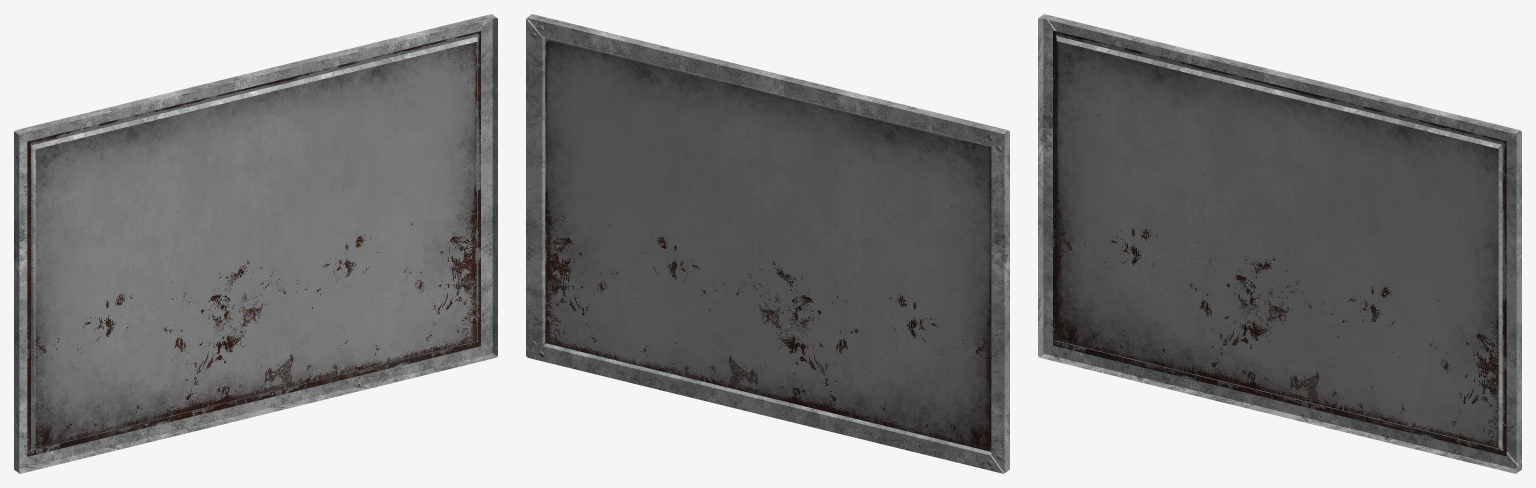
Rendered from Toilet_mirror_dirt.fbx.
3 renders of one model, left to right at view 1: azimuth 30°, elevation 25°; view 2: azimuth 150°, elevation 25°; view 3: azimuth 330°, elevation 25°, orthographic.
Parts seen in each view (by area): view 1: mirror_toilet; view 2: mirror_toilet; view 3: mirror_toilet.
Part boxes in pixels (bbox=[...]): mirror_toilet: bbox=[14, 14, 497, 473]; mirror_toilet: bbox=[526, 14, 1009, 473]; mirror_toilet: bbox=[1038, 14, 1521, 473].
Size of the model in its own units: 75.06 by 50.92 by 1.52.
